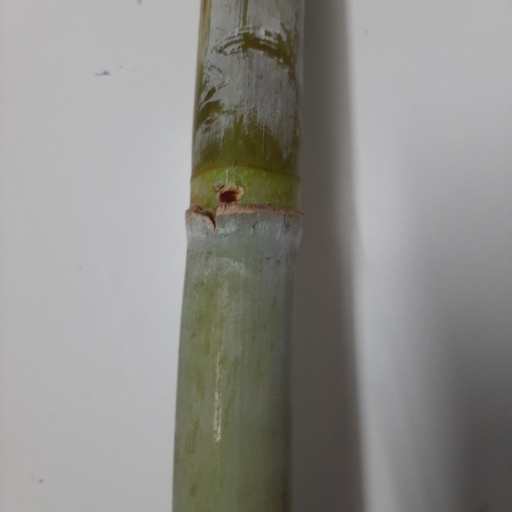Damage_Bud: (213, 181, 245, 208)
